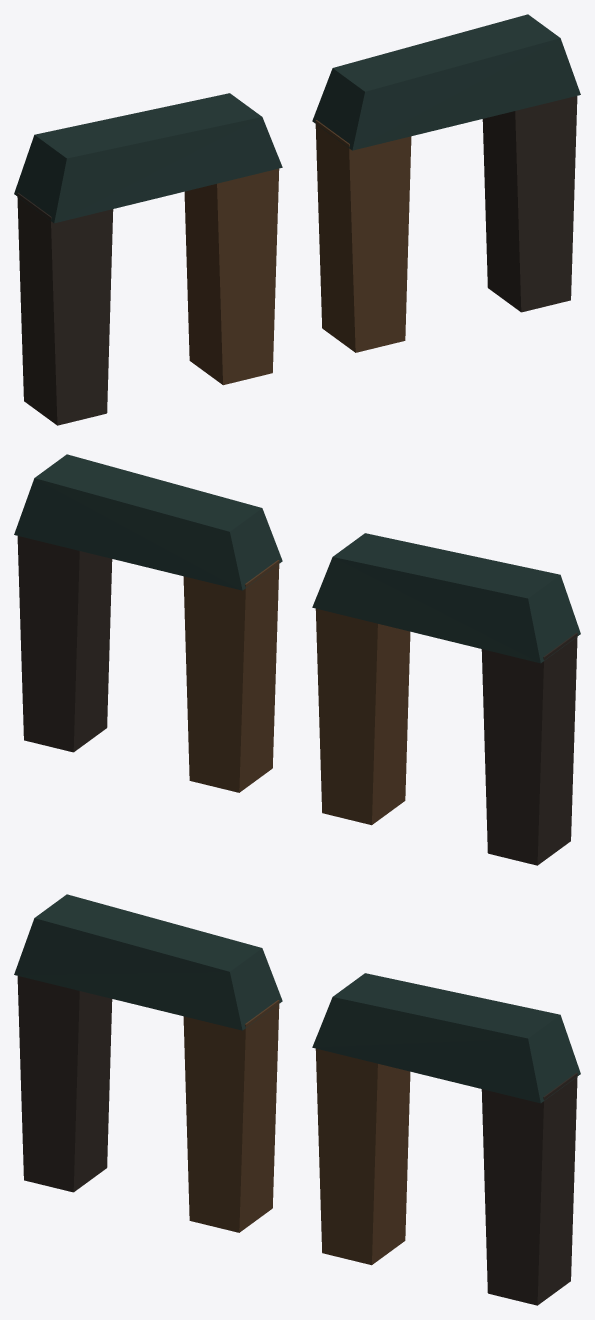
Rendered from portal_pareado.obj.
3 views of the same model, one above another, from view 1: azimuth 30°, elevation 25°; view 2: azimuth 150°, elevation 25°; view 3: azimuth 330°, elevation 25° (orthographic).
Visible parts, largest first — view 1: dintel_b, dintel_a, portal_b_izq, portal_a_izq, portal_b_der, portal_a_der; view 2: dintel_b, dintel_a, portal_b_izq, portal_a_izq, portal_b_der, portal_a_der; view 3: dintel_a, dintel_b, portal_a_der, portal_b_der, portal_a_izq, portal_b_izq.
Boxes of the visible parts, x1,y1,x2,y2 form: dintel_b: (312, 14, 580, 150); dintel_a: (14, 93, 282, 223); portal_b_izq: (315, 120, 411, 352); portal_a_izq: (17, 192, 113, 425); portal_b_der: (482, 96, 577, 312); portal_a_der: (184, 168, 279, 385); dintel_b: (14, 454, 282, 590); dintel_a: (312, 533, 580, 663); portal_b_izq: (183, 560, 279, 792); portal_a_izq: (481, 632, 577, 865); portal_b_der: (17, 536, 112, 752); portal_a_der: (315, 608, 410, 825); dintel_a: (14, 894, 282, 1030); dintel_b: (312, 973, 580, 1103); portal_a_der: (183, 1000, 279, 1232); portal_b_der: (481, 1072, 577, 1305); portal_a_izq: (17, 976, 112, 1192); portal_b_izq: (315, 1048, 410, 1265).
Size of the model in its own units: 6.36 by 3.05 by 0.84.
